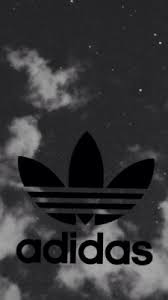adidas: (15, 129, 157, 268)
